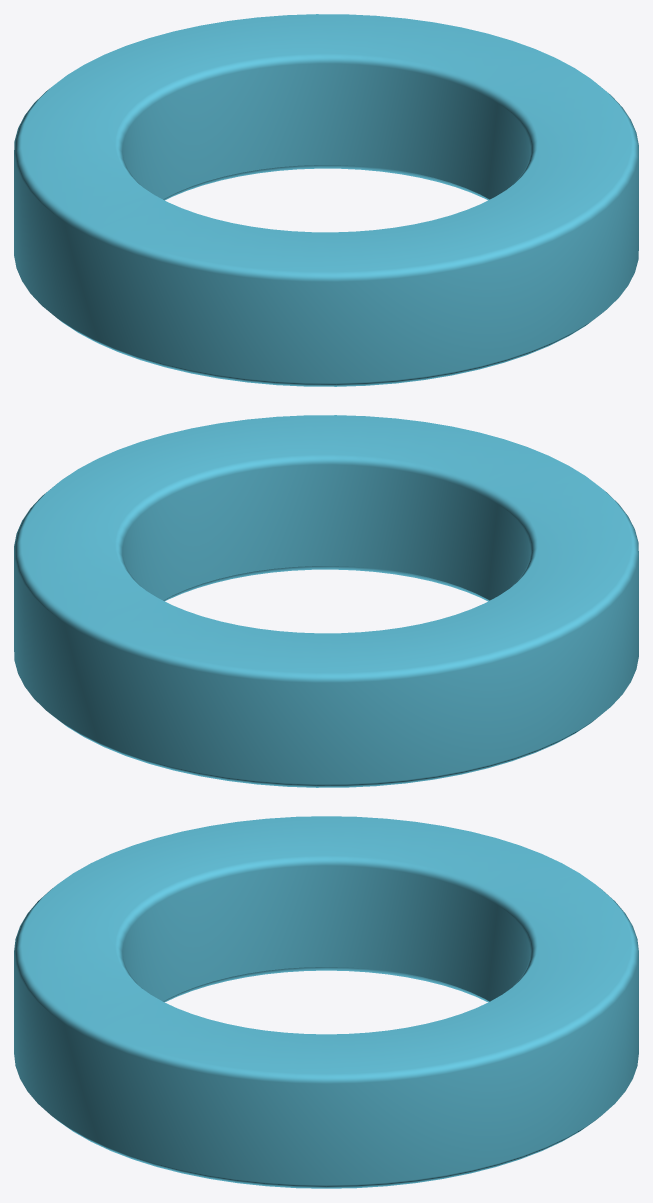
3 renders of one model, top to bottom at view 1: azimuth 30°, elevation 25°; view 2: azimuth 150°, elevation 25°; view 3: azimuth 270°, elevation 25°, orthographic.
Parts seen in each view (by area): view 1: seal_body; view 2: seal_body; view 3: seal_body.
Part boxes in pixels (<box>): seal_body: <box>14,14,638,386</box>; seal_body: <box>14,415,638,787</box>; seal_body: <box>14,816,638,1188</box>.
Size of the model in its own units: 0.0345 by 0.007 by 0.0345.
